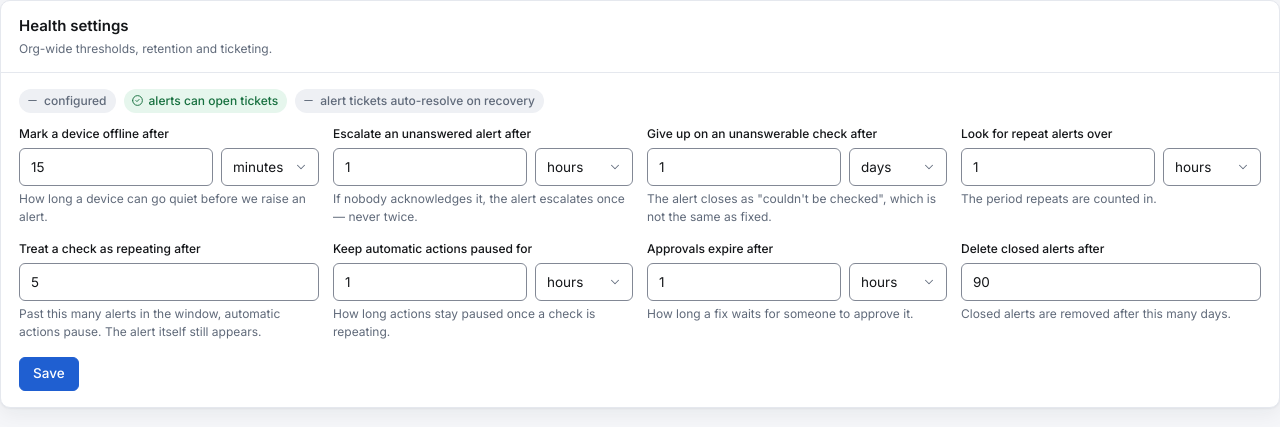
it: HealthSettingsPanel › keeps letters typed into a numeric field and names them
Replace the text in the field labelled "Delete closed alerts after" with "abc" at {"x": 1111, "y": 282}, box [961,263,1261,301]
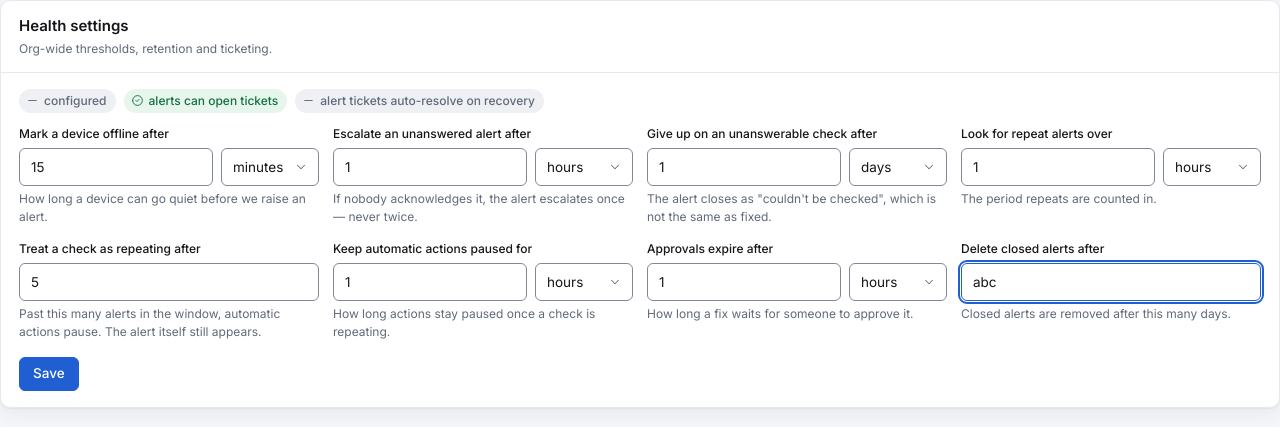
Click the button "Save" at {"x": 49, "y": 374}, box [19,357,79,390]
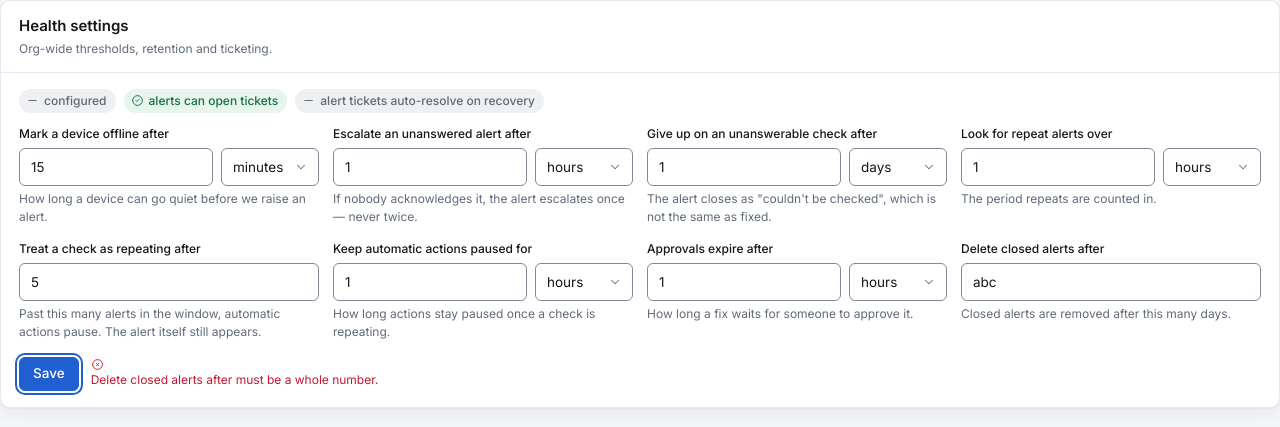
expect the message shows "Delete closed alerts after must be a whole number": met, box [91,372,375,387]
